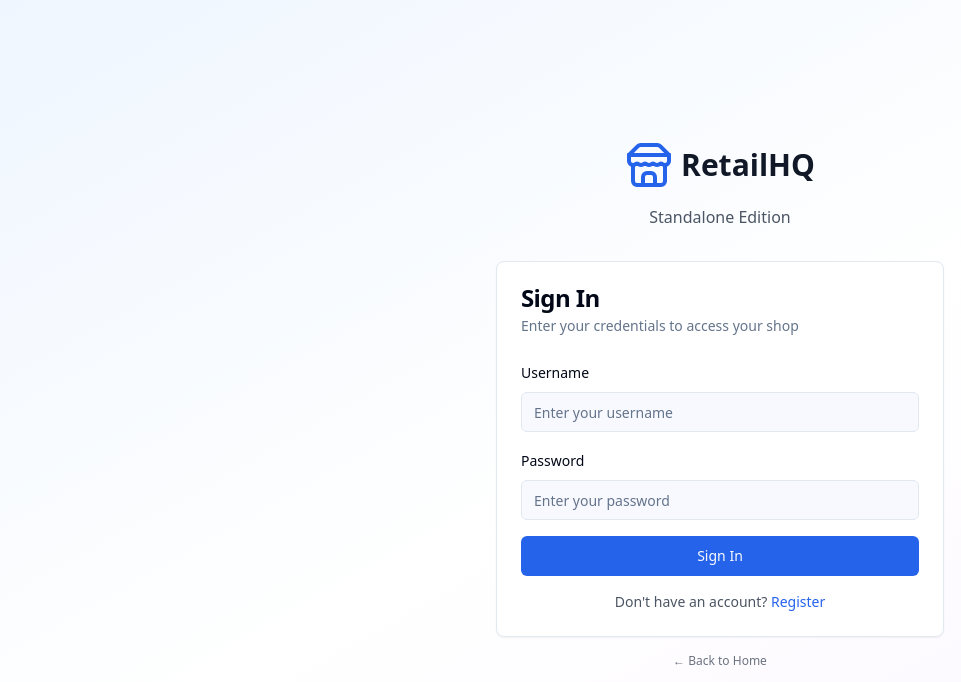
Scenario: EmbeddedLoginPage › Loading State › should disable inputs during login
The width and height of the screenshot is (961, 682).
Type "testuser" into the field labelled "Username" at (720, 412), box 521,392 -> 919,432
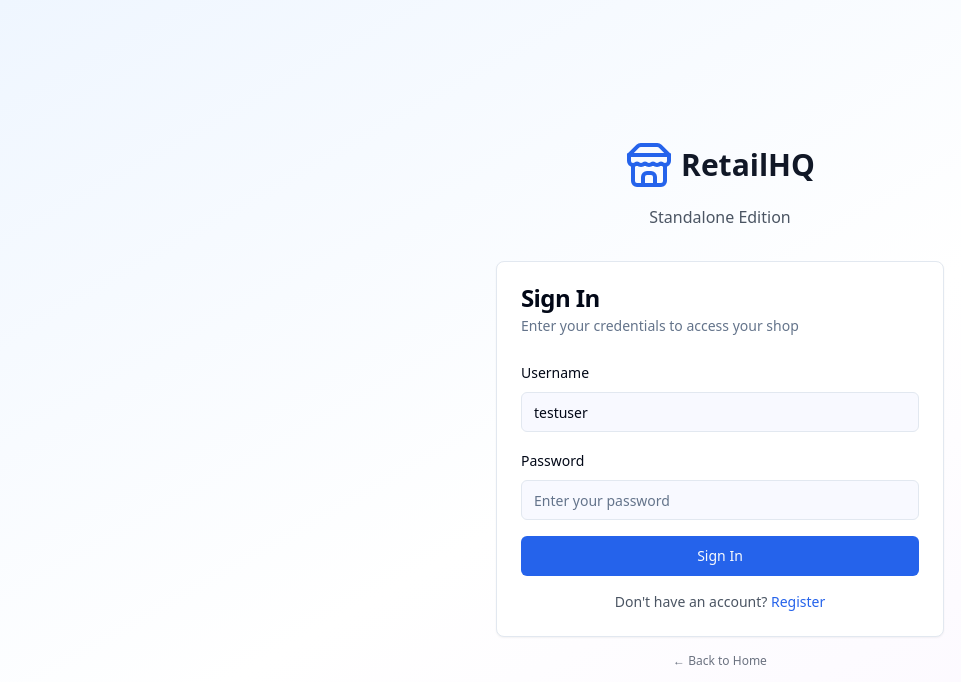
Type "password123" into the password field labelled "Password" at (720, 500), box 521,480 -> 919,520
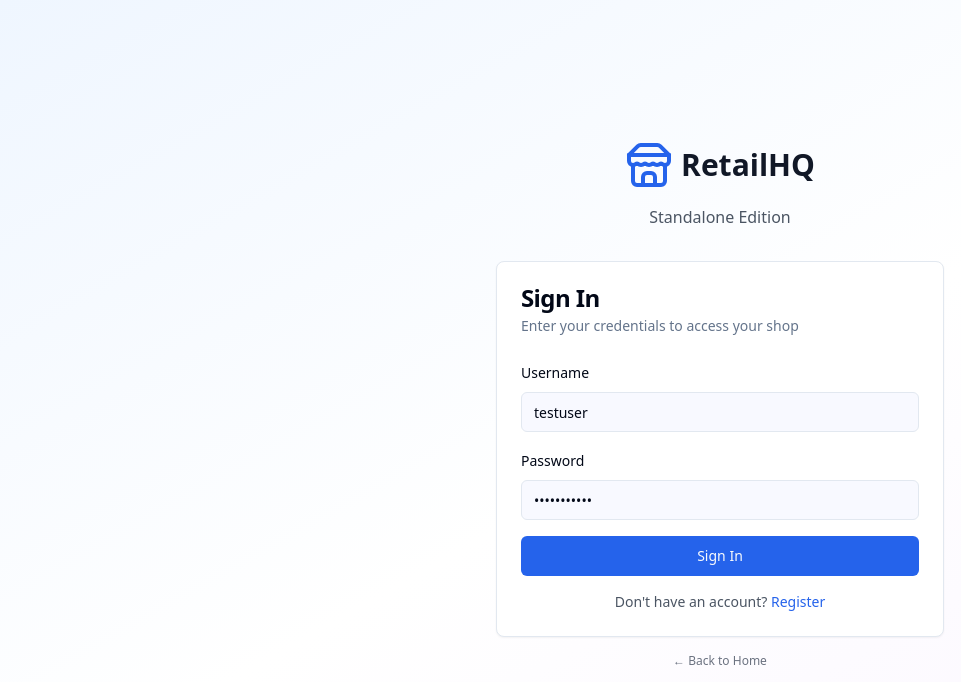
Click the button "Sign In" at (720, 556), box 521,536 -> 919,576
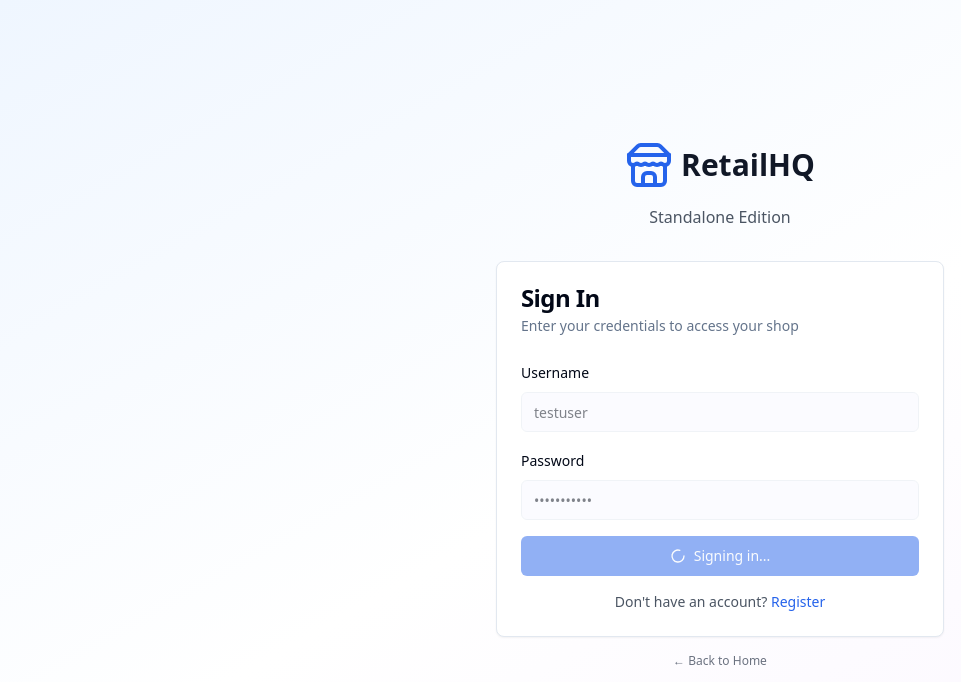
Check: the field labelled "Username" is disabled, box 521,392 -> 919,432
Check: the password field labelled "Password" is disabled, box 521,480 -> 919,520
Check: the button named "sign in" is disabled, box 521,536 -> 919,576
